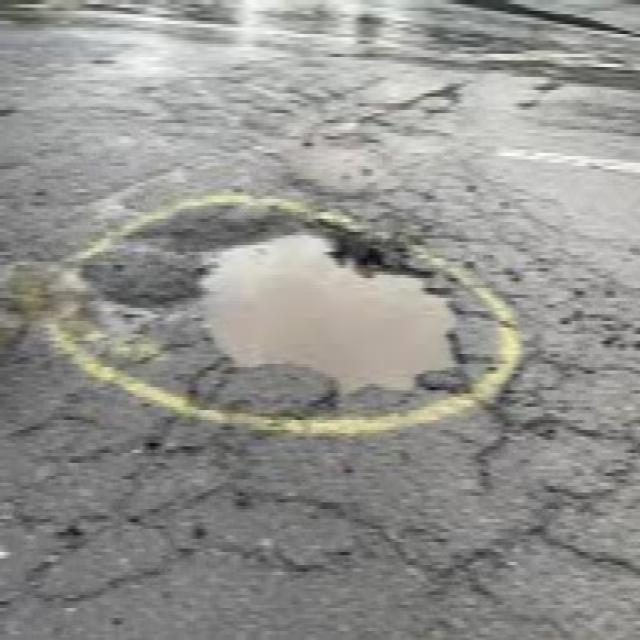Pothole: (165, 209, 501, 419)
